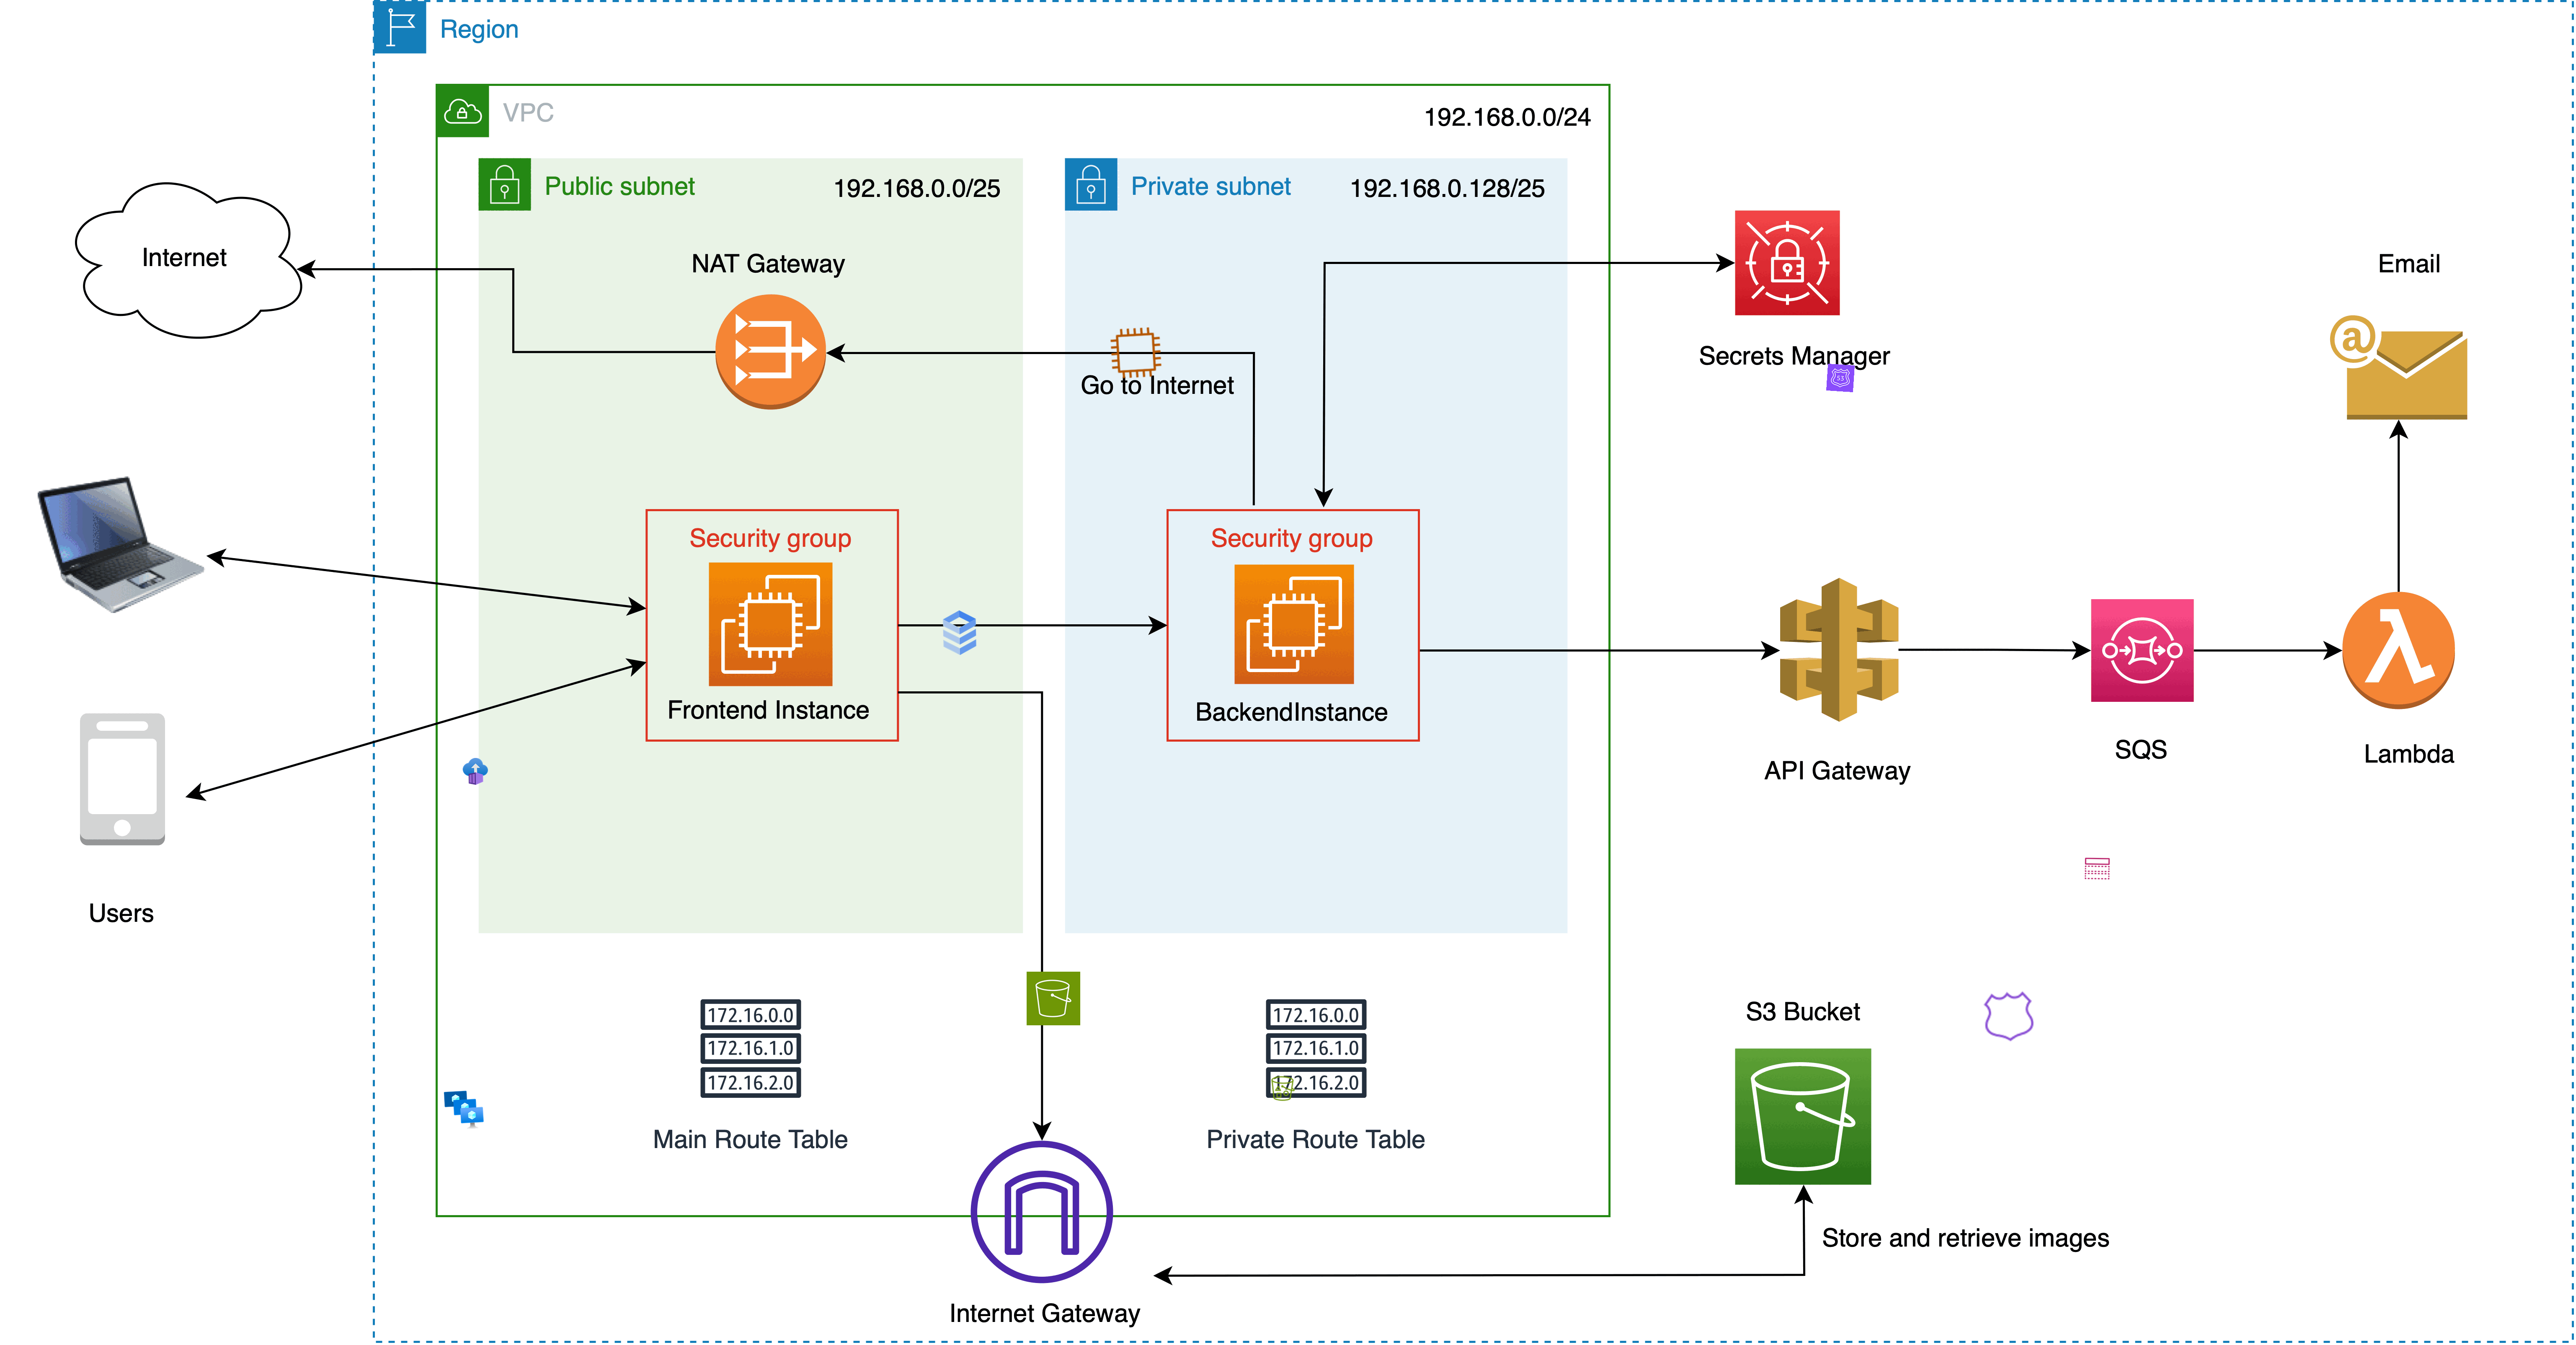aws_amazon_route_53: (1826, 363, 1855, 392)
aws_amazon_simple_storage_service: (1026, 972, 1080, 1026)
aws_ec2_instance: (1107, 324, 1164, 382)
aws_route_53_hosted_zone: (1980, 987, 2038, 1045)
aws_simple_notification_service_topic: (2084, 854, 2111, 883)
aws_simple_storage_service_bucket_with_objects: (1269, 1074, 1297, 1103)
azure_container_instances: (462, 757, 489, 786)
azure_vm_scale_sets: (441, 1088, 484, 1130)
gcp_cloud_sql: (932, 605, 986, 660)
